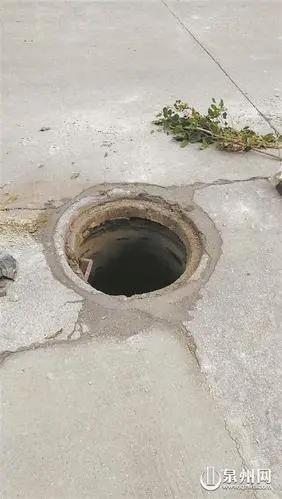wellcover: (49, 193, 214, 309)
